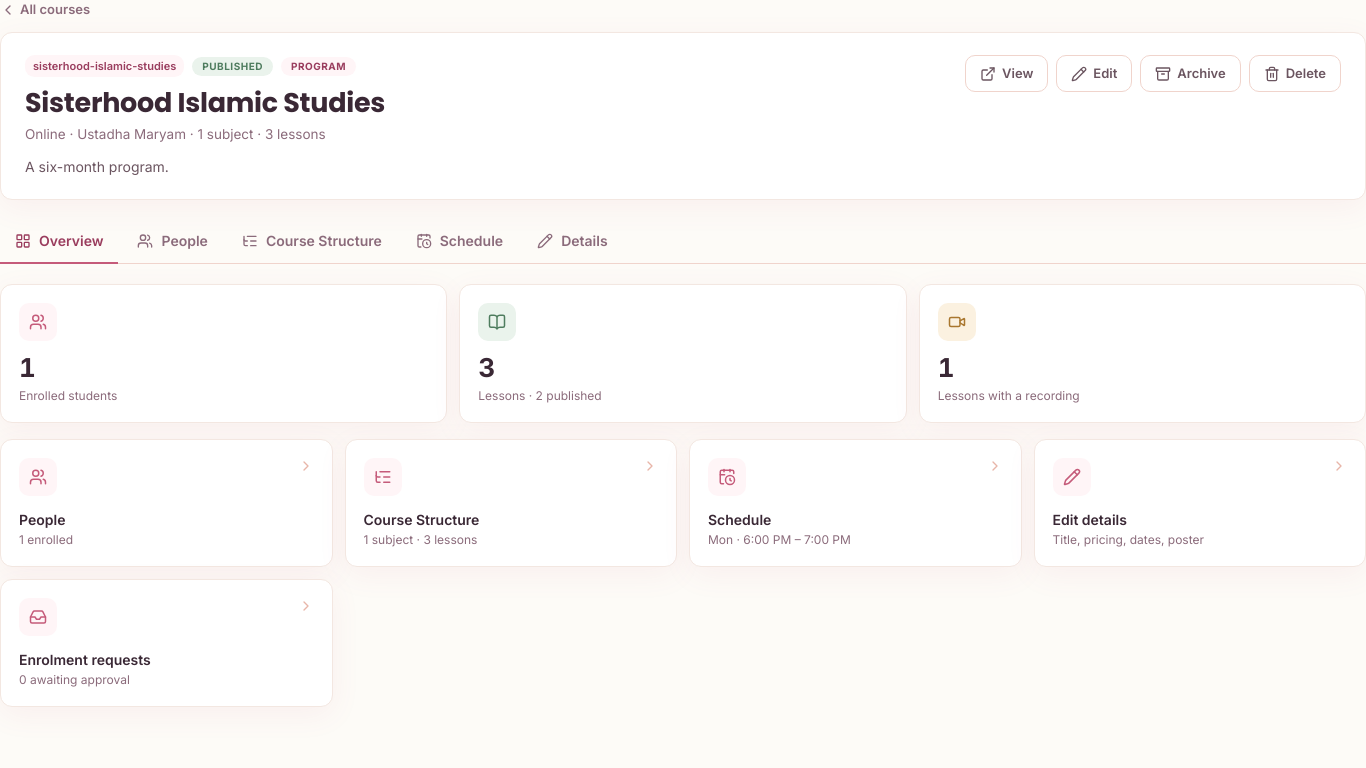
CourseWorkspace › lists lessons under their subject and flags recordings read-only
Click the tab "Course Structure" at (312, 242), box left=227, top=220, right=397, bottom=264
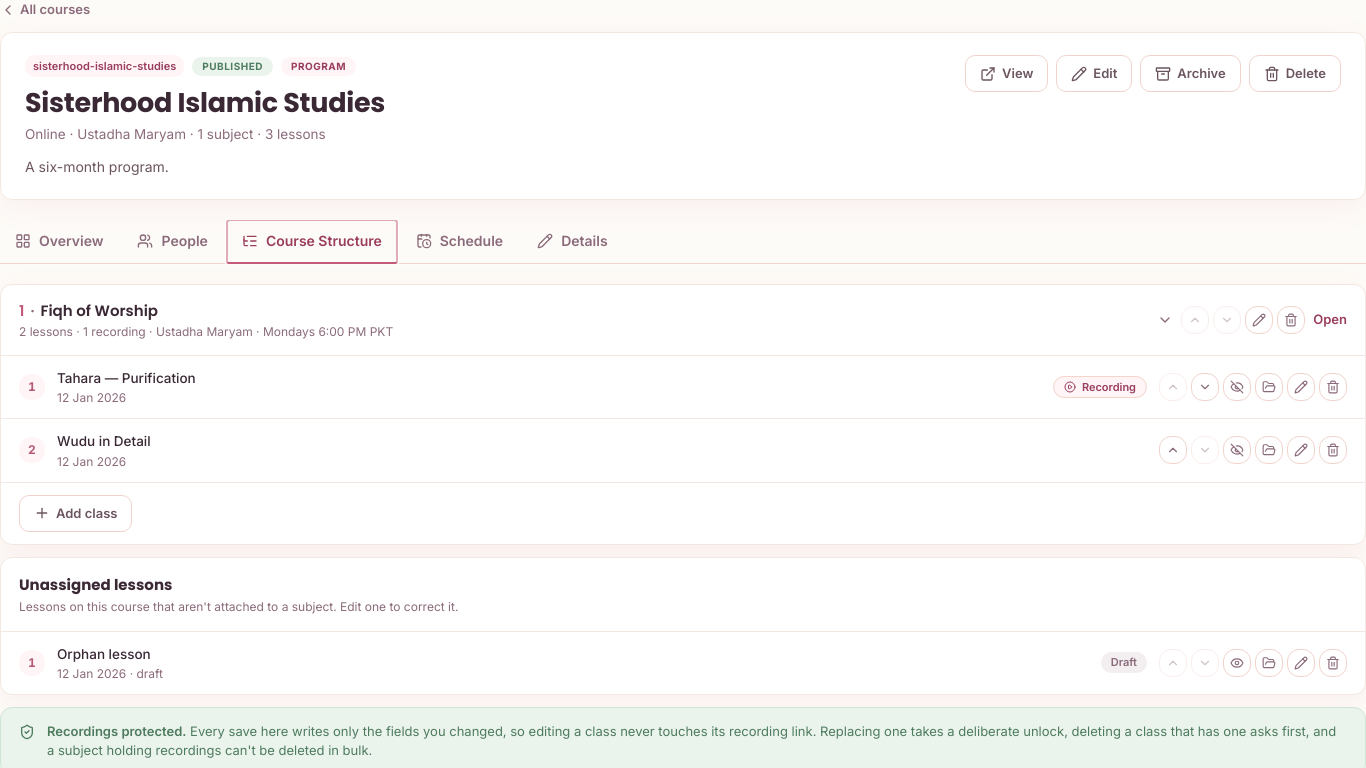
Result: the text "Tahara — Purification" is shown at left=57, top=370, right=196, bottom=386
Result: the text "Wudu in Detail" is shown at left=57, top=433, right=151, bottom=449
Result: the text "Recording" is shown once at left=1053, top=376, right=1147, bottom=398
